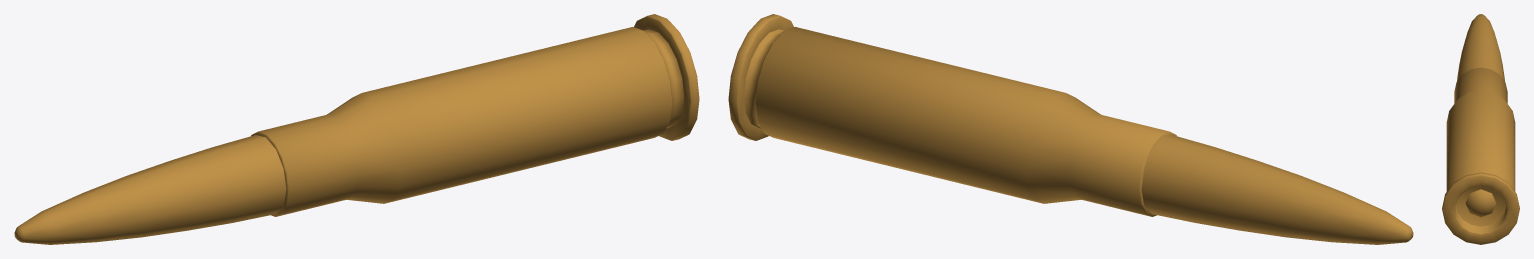
The model's file is Bullet-dDgEYvR1mLP.glb.
3 renders of one model, left to right at view 1: azimuth 30°, elevation 25°; view 2: azimuth 150°, elevation 25°; view 3: azimuth 270°, elevation 25°, orthographic. The views are drawn at different scales.
Parts seen in each view (by area): view 1: Bullet_Q.002; view 2: Bullet_Q.002; view 3: Bullet_Q.002.
Part boxes in pixels (x1,y1,x2,y2): Bullet_Q.002: [14, 14, 699, 244]; Bullet_Q.002: [728, 14, 1413, 244]; Bullet_Q.002: [1442, 14, 1519, 244].
Bounding box in the file's own units: 0.1129 × 0.0192 × 0.0192.
